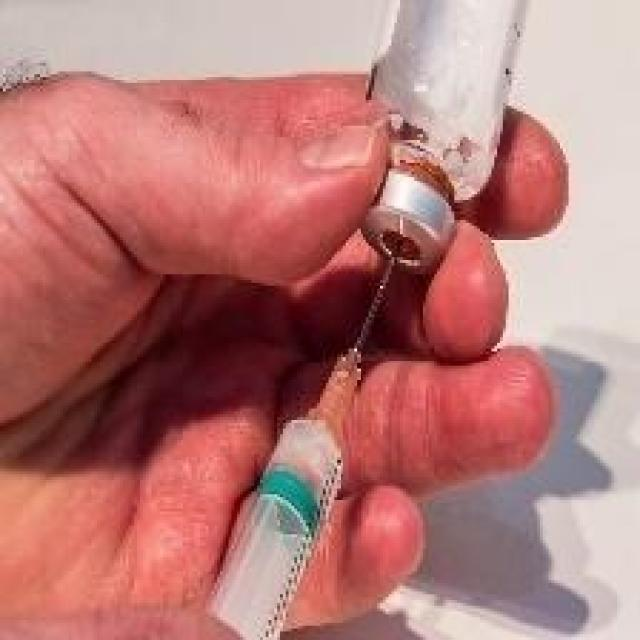syringe: (218, 157, 450, 640)
